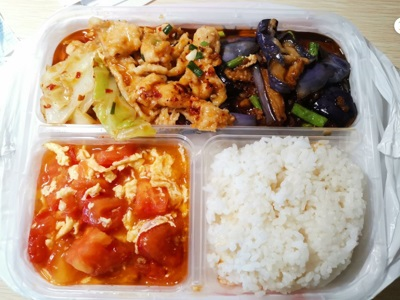cqz: (225, 27, 343, 119)
jdxhs: (25, 136, 184, 286)
rice: (208, 140, 360, 285)
